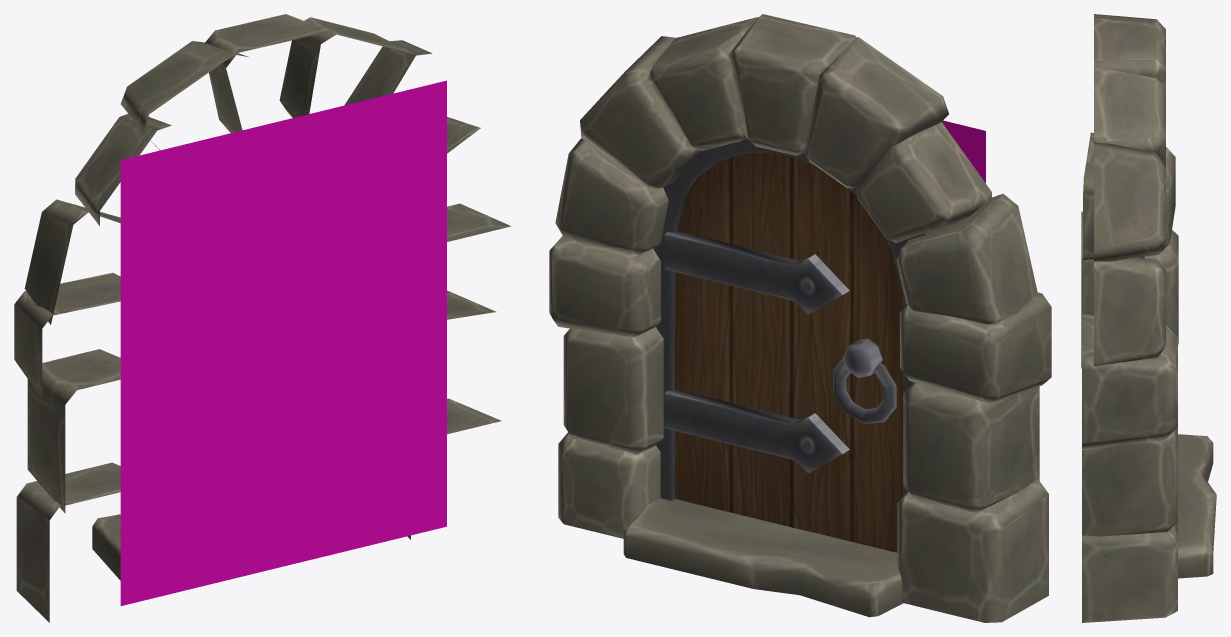
Rendered from porta.glb.
3 renders of one model, left to right at view 1: azimuth 30°, elevation 25°; view 2: azimuth 150°, elevation 25°; view 3: azimuth 270°, elevation 25°, orthographic. The views are drawn at different scales.
Visible parts, largest first — view 1: Plane, doorway; view 2: doorway, door, Plane; view 3: doorway.
Part boxes in pixels (box(x1,y1,x2,y2)): Plane: box(120, 80, 446, 605); doorway: box(14, 14, 511, 622); doorway: box(549, 14, 1051, 622); door: box(664, 152, 902, 552); Plane: box(942, 120, 985, 182); doorway: box(1081, 14, 1216, 622).
Bounding box in the file's own units: 1.67 × 1.76 × 0.4503.
3 materials, 2 textured.
